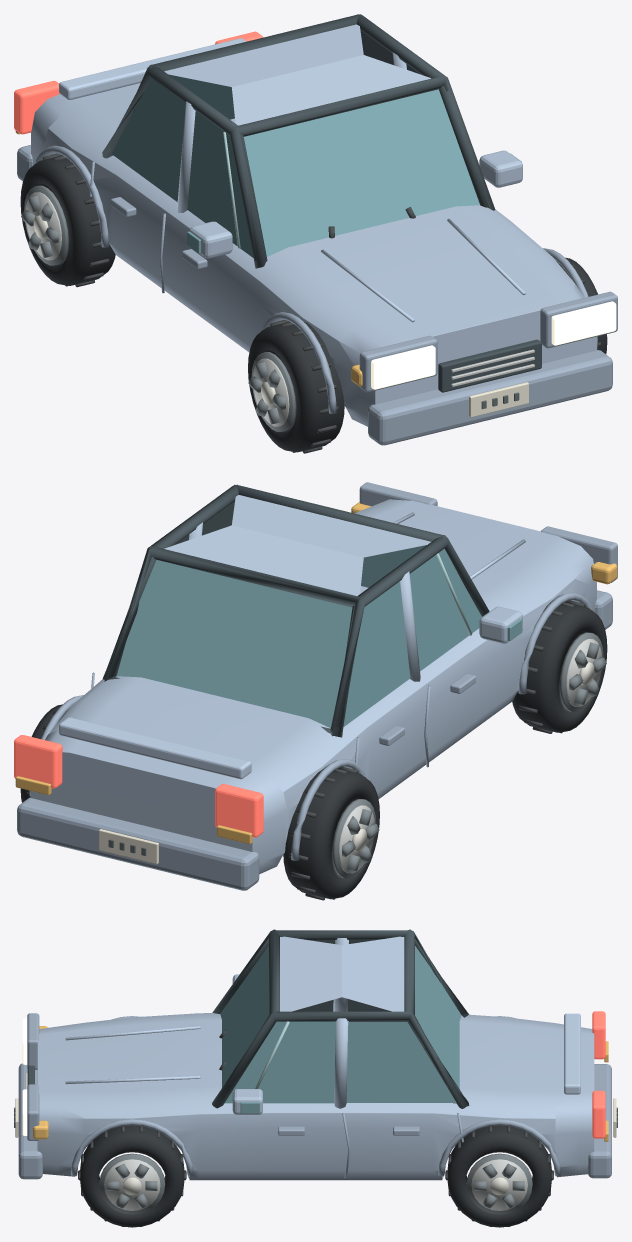
Rendered from car_04.fbx.
3 renders of one model, top to bottom at view 1: azimuth 30°, elevation 25°; view 2: azimuth 150°, elevation 25°; view 3: azimuth 270°, elevation 25°, orthographic. The views are drawn at different scales.
Parts seen in each view (by area): view 1: Body_SculptedShell, FrontWindscreen, Roof_CrownedPanel, FrontBumper, Tyre_FL, Tyre_RL, SideWindow_L_1, SideWindow_L_0, FrontWindscreenBorder, WindowOutline_R, WindowOutline_L, FrontGrille (+23 smaller); view 2: Body_SculptedShell, RearWindow, Roof_CrownedPanel, RearBumper, Tyre_RL, Tyre_FL, SideWindow_L_1, SideWindow_L_0, TrunkLip, RearWindowBorder, WindowOutline_L, WindowOutline_R (+20 smaller); view 3: Body_SculptedShell, Roof_CrownedPanel, SideWindow_R_1, SideWindow_R_0, Tyre_FR, Tyre_RR, FrontWindscreen, RearWindow, WindowOutline_R, WindowOutline_L, RearBumper, FrontBumper (+20 smaller).
Part boxes in pixels (box(x1,y1,x2,y2)): Body_SculptedShell: box(31, 83, 596, 426); FrontWindscreen: box(243, 89, 479, 256); Roof_CrownedPanel: box(164, 24, 430, 125); FrontBumper: box(368, 350, 612, 445); Tyre_FL: box(248, 322, 344, 452); Tyre_RL: box(20, 155, 115, 285); SideWindow_L_1: box(111, 78, 185, 201); SideWindow_L_0: box(187, 111, 253, 257); FrontWindscreenBorder: box(232, 75, 490, 268); WindowOutline_R: box(356, 14, 495, 210); WindowOutline_L: box(105, 64, 265, 267); FrontGrille: box(438, 339, 541, 392); Body_SculptedShell: box(31, 499, 596, 874); RearWindow: box(116, 559, 352, 728); Roof_CrownedPanel: box(164, 495, 430, 595); RearBumper: box(17, 797, 259, 890); Tyre_RL: box(283, 768, 379, 899); Tyre_FL: box(512, 602, 607, 732); SideWindow_L_1: box(343, 581, 410, 726); SideWindow_L_0: box(409, 548, 481, 671); TrunkLip: box(59, 717, 251, 779); RearWindowBorder: box(104, 546, 362, 737); WindowOutline_L: box(331, 535, 489, 729); WindowOutline_R: box(102, 484, 238, 680); Body_SculptedShell: box(37, 1013, 594, 1180); Roof_CrownedPanel: box(280, 936, 404, 1011); SideWindow_R_1: box(346, 1022, 456, 1102); SideWindow_R_0: box(225, 1021, 335, 1103); Tyre_FR: box(80, 1125, 184, 1227); Tyre_RR: box(447, 1125, 551, 1227); FrontWindscreen: box(220, 946, 268, 1088); RearWindow: box(415, 946, 461, 1089); WindowOutline_R: box(212, 1011, 468, 1108); WindowOutline_L: box(218, 930, 466, 1013); RearBumper: box(587, 1064, 611, 1178); FrontBumper: box(18, 1063, 42, 1179).
Size of the model in its own units: 245 by 177 by 483.
